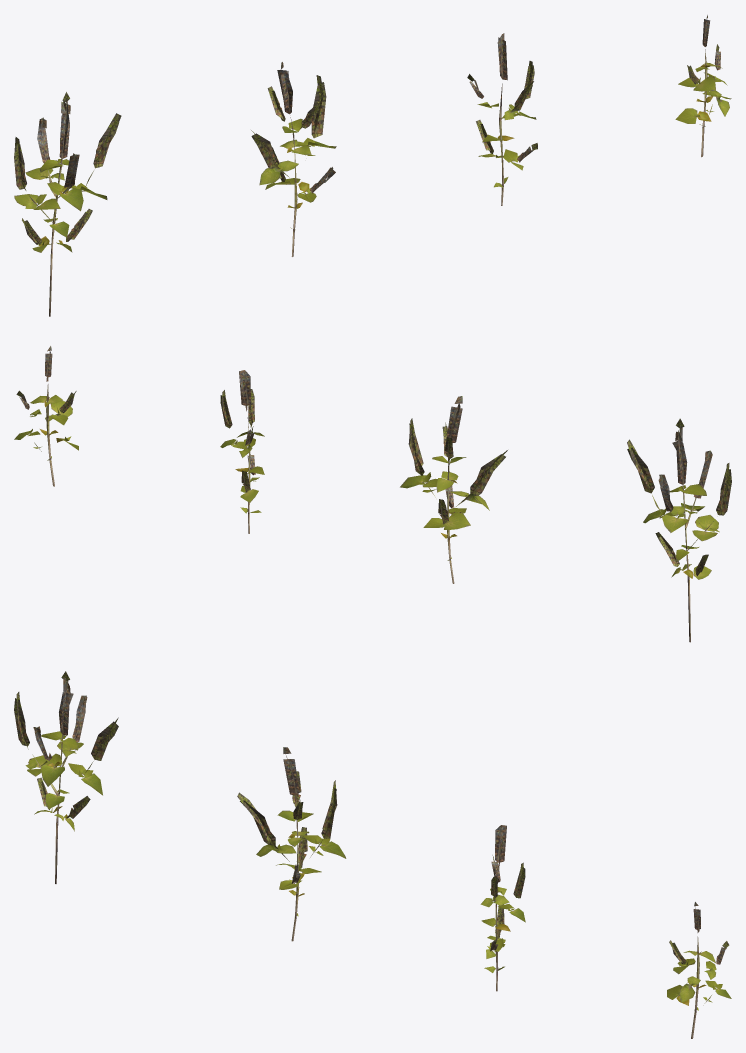
Rendered from shrub_03_lod1.gltf.
3 renders of one model, top to bottom at view 1: azimuth 30°, elevation 25°; view 2: azimuth 150°, elevation 25°; view 3: azimuth 330°, elevation 25°, orthographic. The views are drawn at different scales.
Parts seen in each view (by area): view 1: shrub_03_lod1; view 2: shrub_03_lod1; view 3: shrub_03_lod1.
Part boxes in pixels (<box>): shrub_03_lod1: <box>14,15,731,316</box>; shrub_03_lod1: <box>14,346,731,642</box>; shrub_03_lod1: <box>14,671,731,1038</box>.
Bounding box in the file's own units: 1.37 × 0.403 × 0.1518.
1 material, 1 textured.
